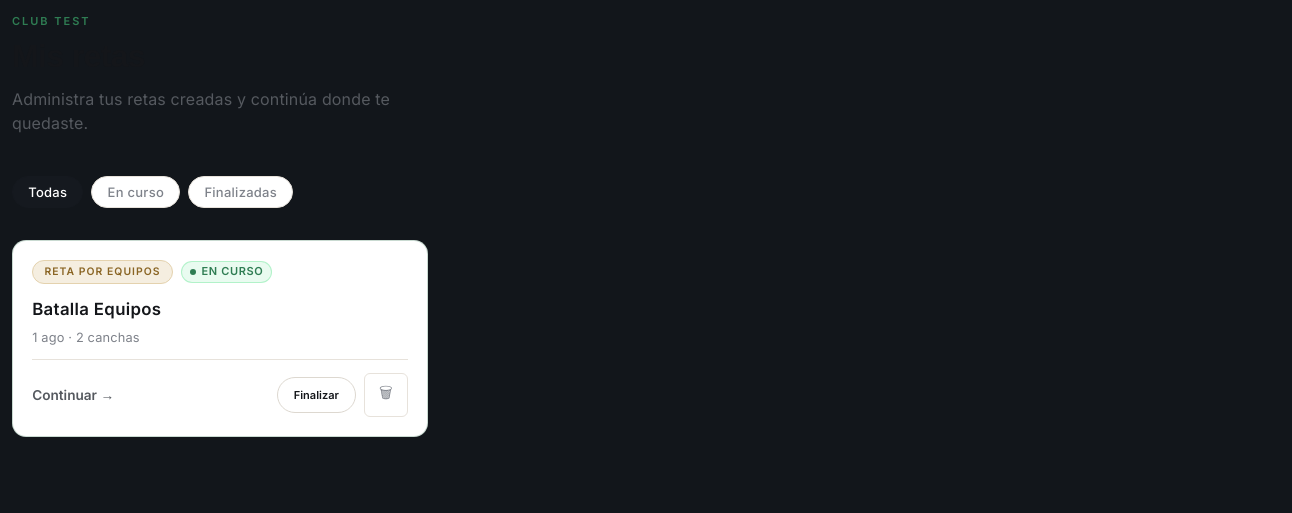
Test: Finalizar reta — resiliencia de UI › indica que se puede reintentar y no pierde los resultados
Click the button "Finalizar".
click(316, 395)  # box [277, 377, 356, 413]
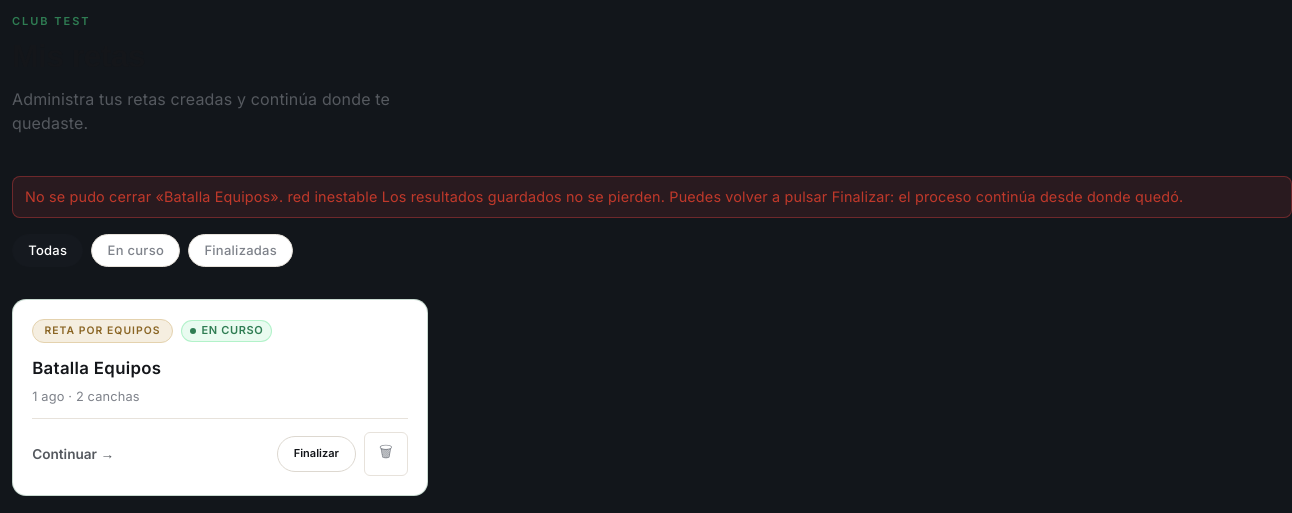
Expected: the text "no se pierden" is shown, [25, 188, 1183, 205]
